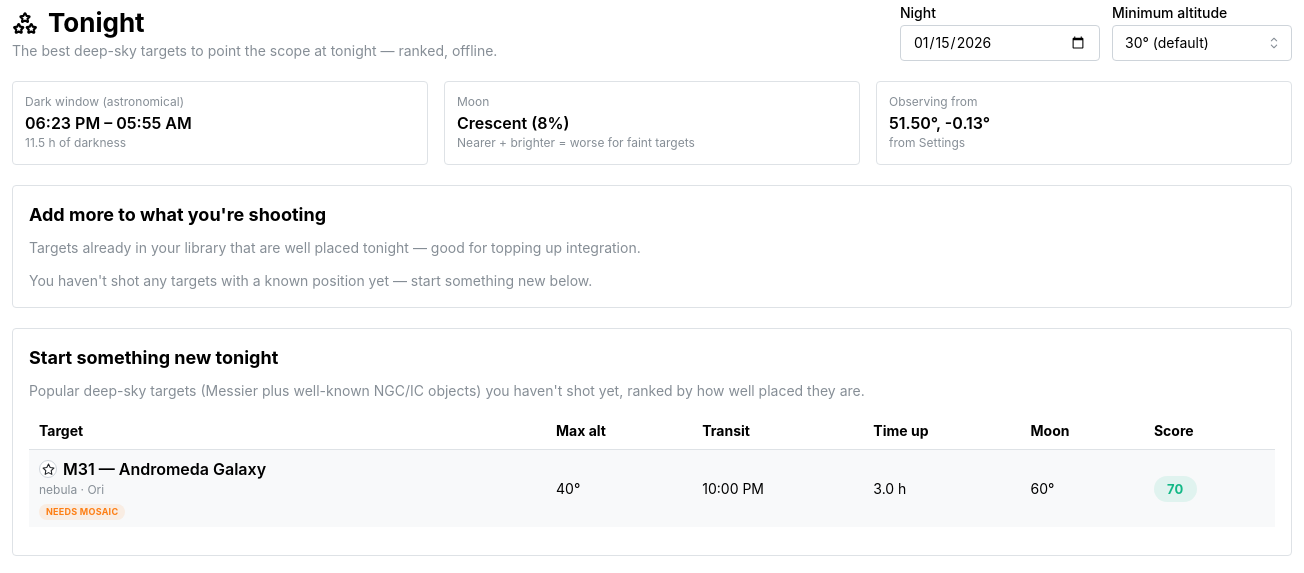
Scenario: TonightView › answers a tap on a planning badge — this page is read outdoors, on a phone
Expected: the text "bigger than the Seestar's single frame" is not shown
Click the button "Needs mosaic": (82, 512) [39, 504, 125, 520]
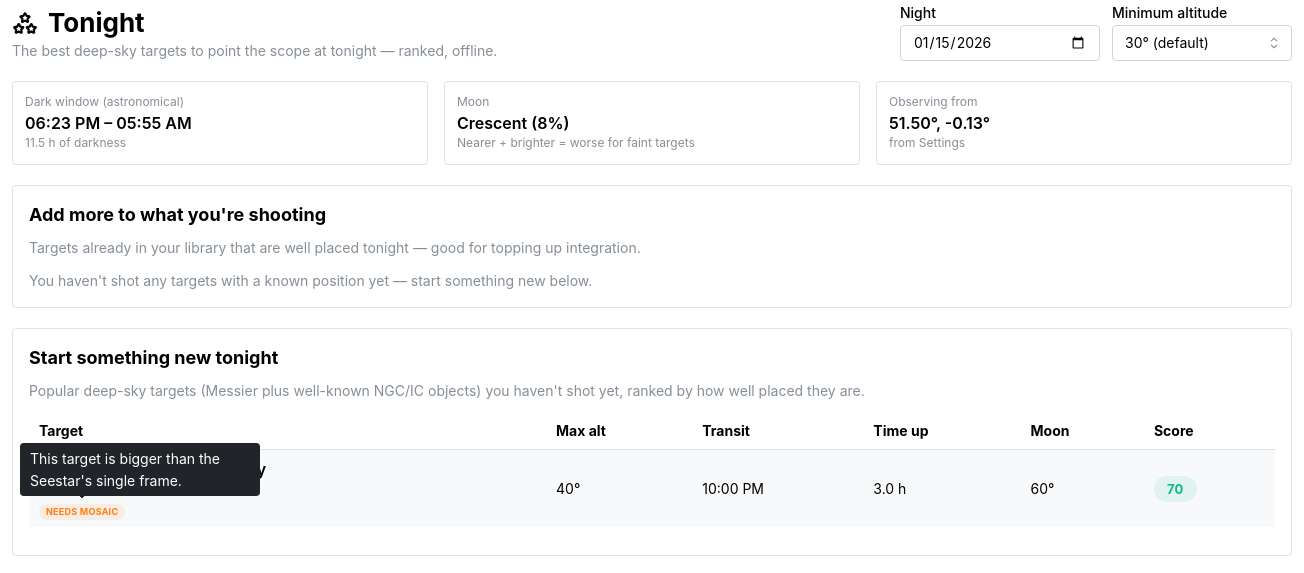
Result: the tooltip "This target is bigger than the Seestar's single frame." is shown at [20, 443, 260, 497]
